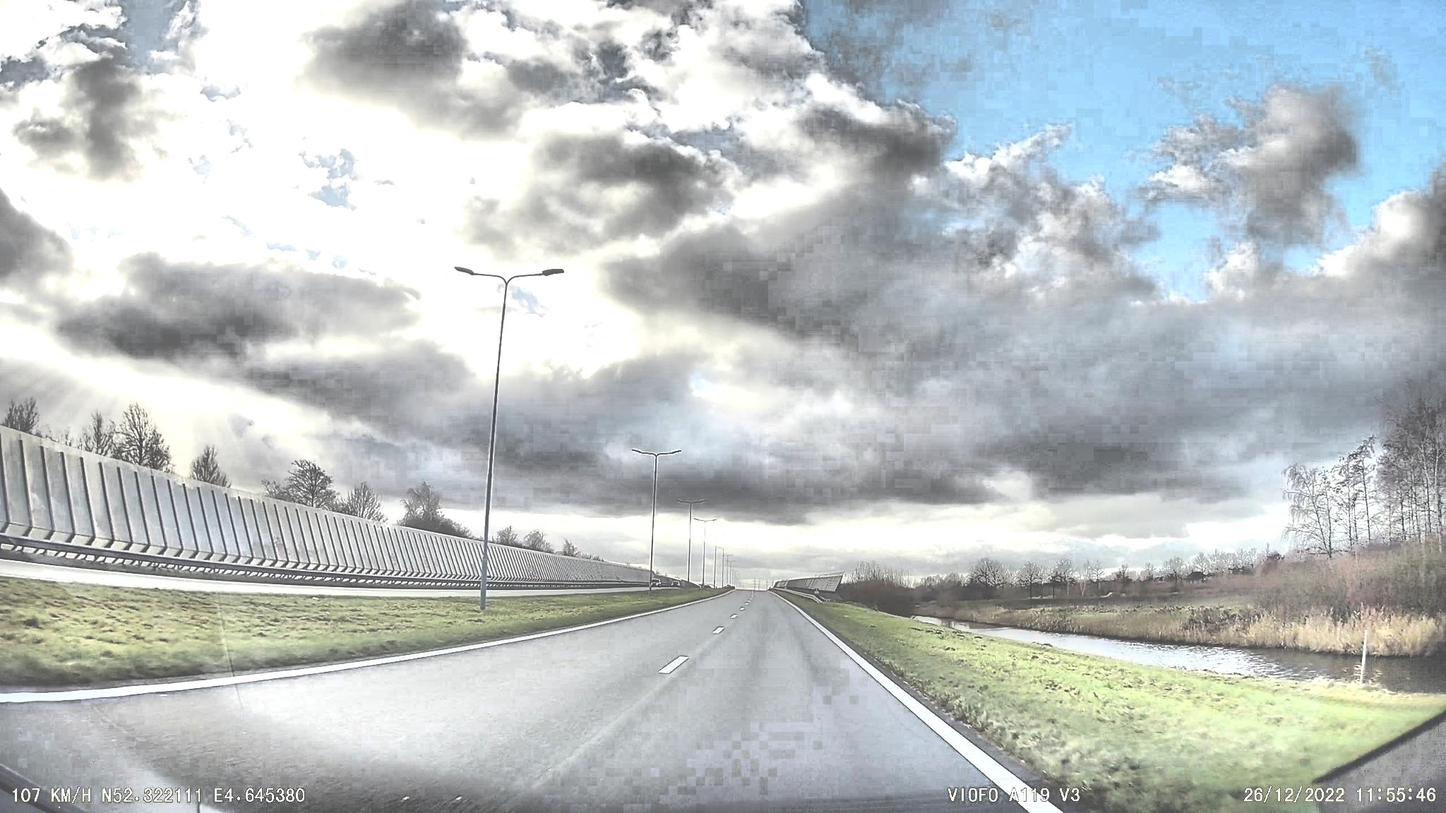Roads: (0, 591, 1091, 813)
